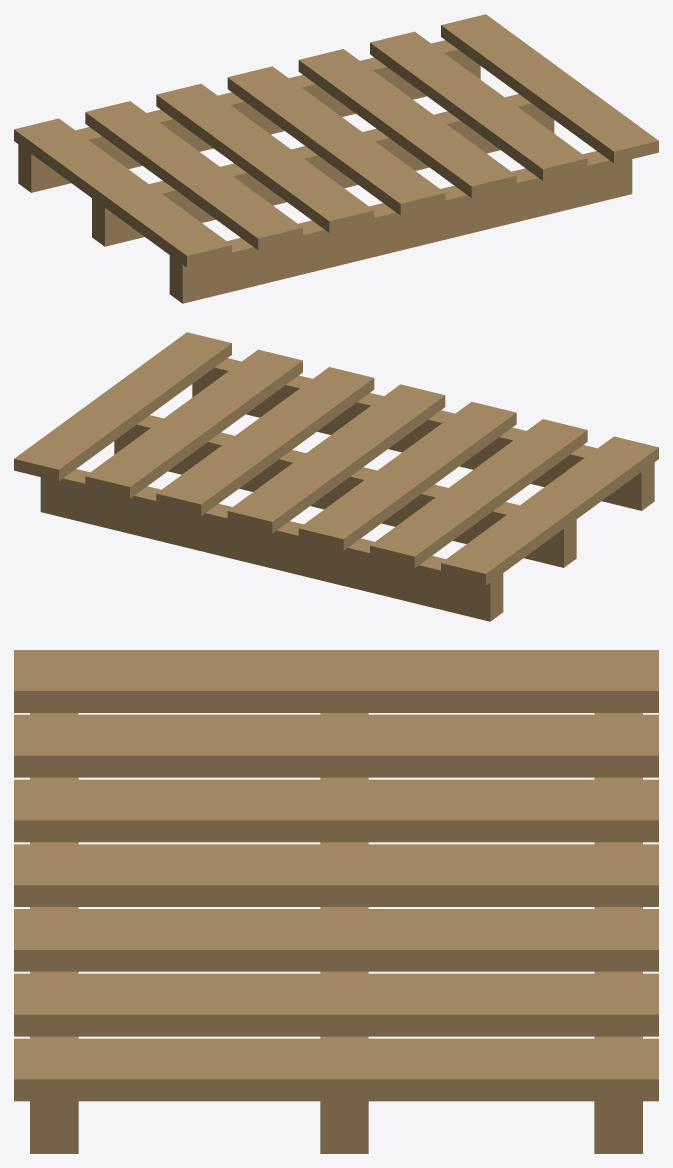
Rendered from prop_pallet.glb.
3 views of the same model, one above another, from view 1: azimuth 30°, elevation 25°; view 2: azimuth 150°, elevation 25°; view 3: azimuth 270°, elevation 25° (orthographic). The views are drawn at different scales.
Visible parts, largest first — view 1: prop_pallet-col; view 2: prop_pallet-col; view 3: prop_pallet-col.
Part boxes in pixels (x1,y1,x2,y2): prop_pallet-col: [14, 14, 658, 303]; prop_pallet-col: [14, 332, 658, 621]; prop_pallet-col: [14, 650, 658, 1153].
Size of the model in its own units: 1.26 by 0.13 by 0.8.
